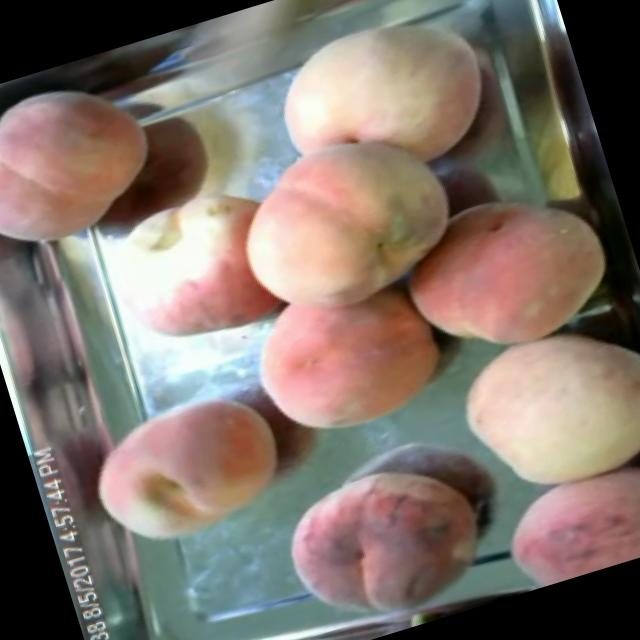Fruit: (205, 99, 482, 338), (248, 0, 521, 215), (373, 158, 632, 374), (259, 429, 522, 640), (234, 257, 471, 460), (430, 301, 640, 521), (68, 372, 302, 567), (0, 49, 181, 277), (469, 417, 640, 598)
